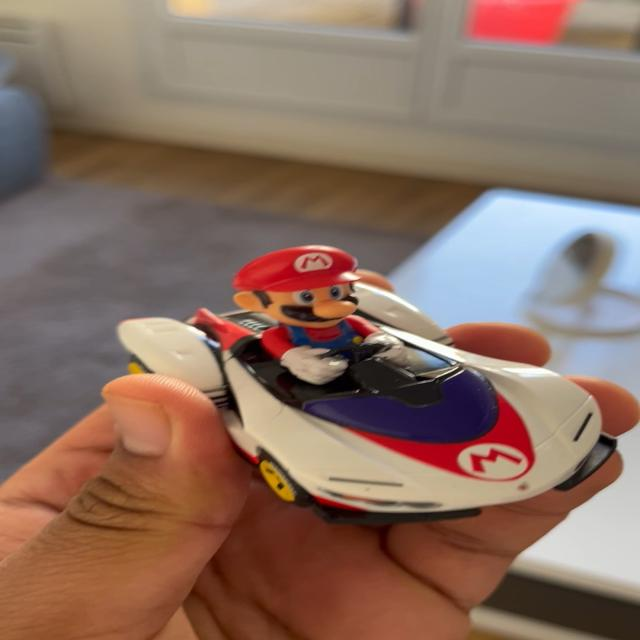mario: (93, 243, 613, 530)
